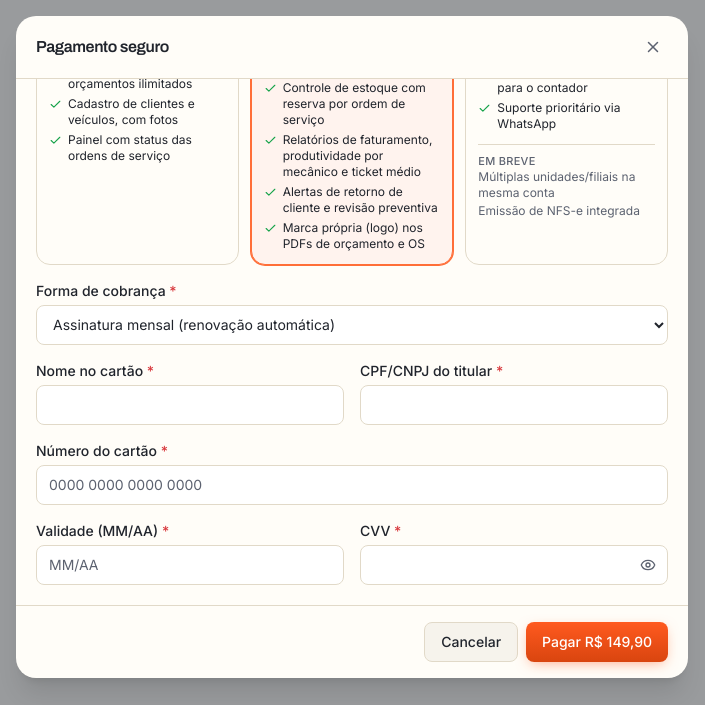
Test: PagamentoCartaoModal › shows the recusado reason and offers "Tentar novamente" instead of a false success — even on HTTP 200
The width and height of the screenshot is (705, 705).
(page scrolled)
Step 1. Type "Ana Souza" into the field labelled "Nome no cartão *" → (190, 405), box [36,385,344,425]
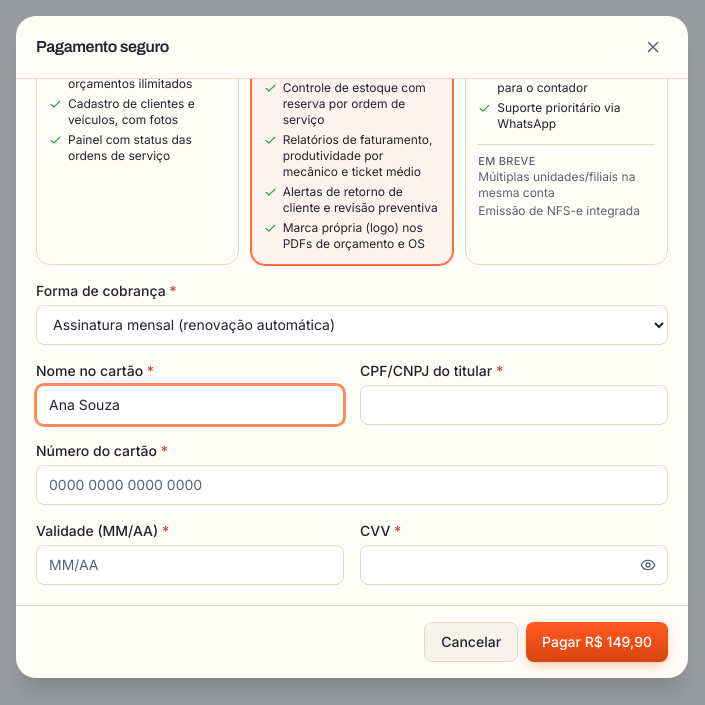
Step 2. Type "12345678900" into the field labelled "CPF/CNPJ do titular *" → (514, 405), box [360,385,668,425]
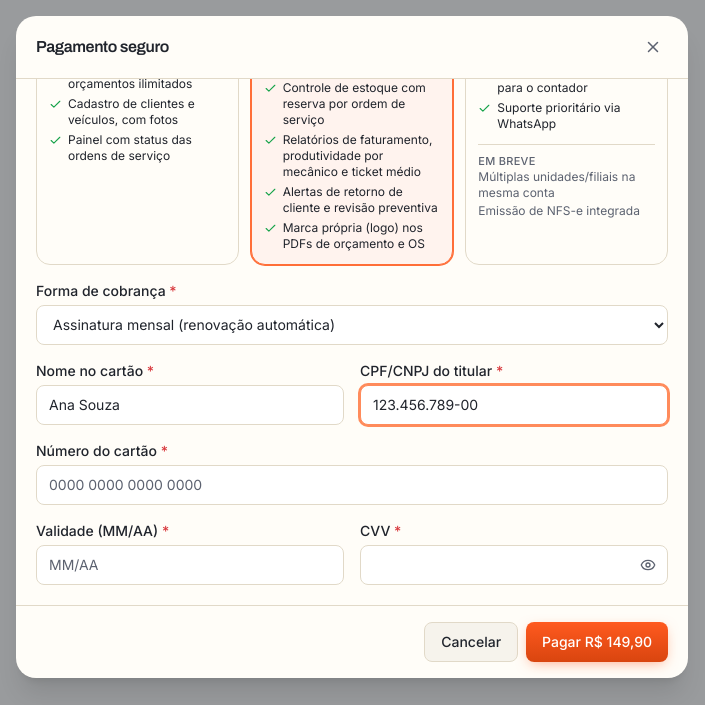
Step 3. Type "4111111111111111" into the field labelled "Número do cartão *" → (352, 485), box [36,465,668,505]
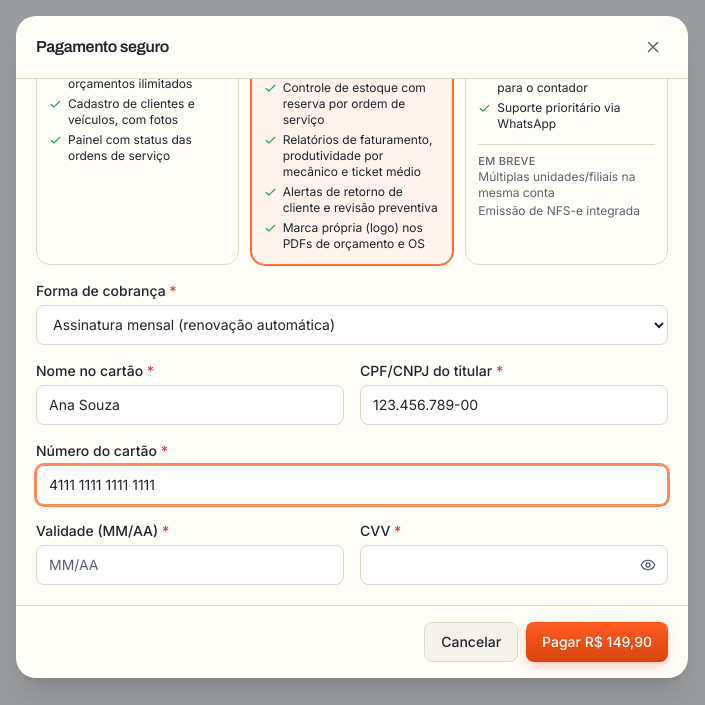
Step 4. Type "1228" into the field labelled "Validade (MM/AA) *" → (190, 565), box [36,545,344,585]
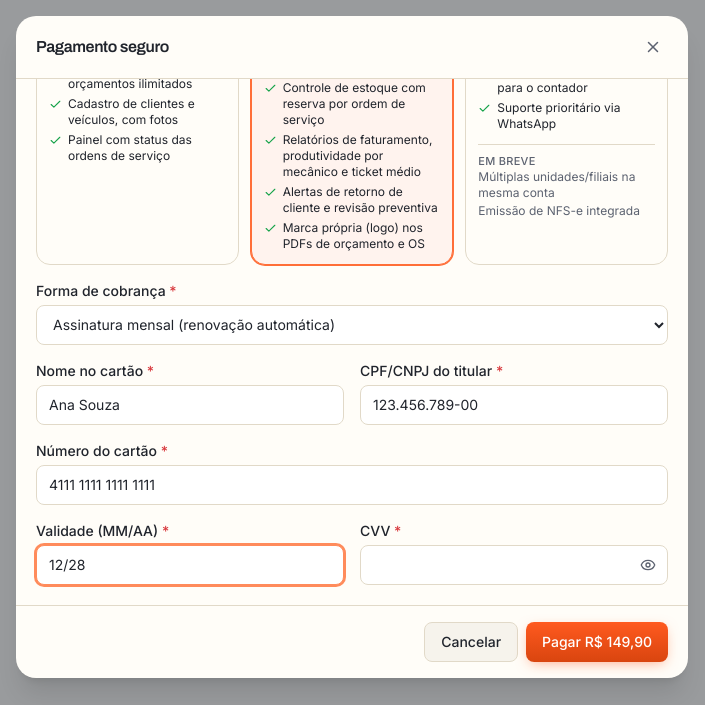
Step 5. Type "123" into the password field labelled "CVV *" → (514, 565), box [360,545,668,585]
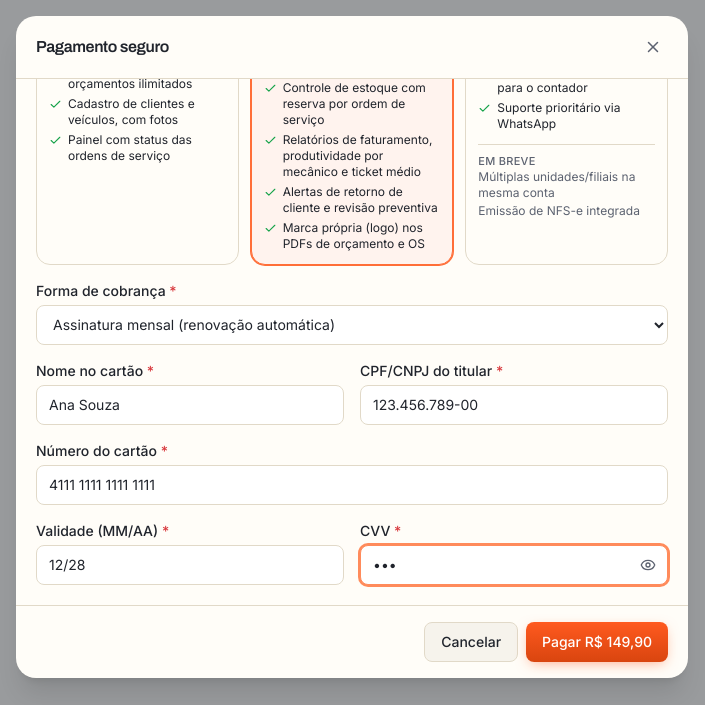
Step 6. Click the button "Pagar R$ 149,90" → (597, 642), box [526,622,668,662]
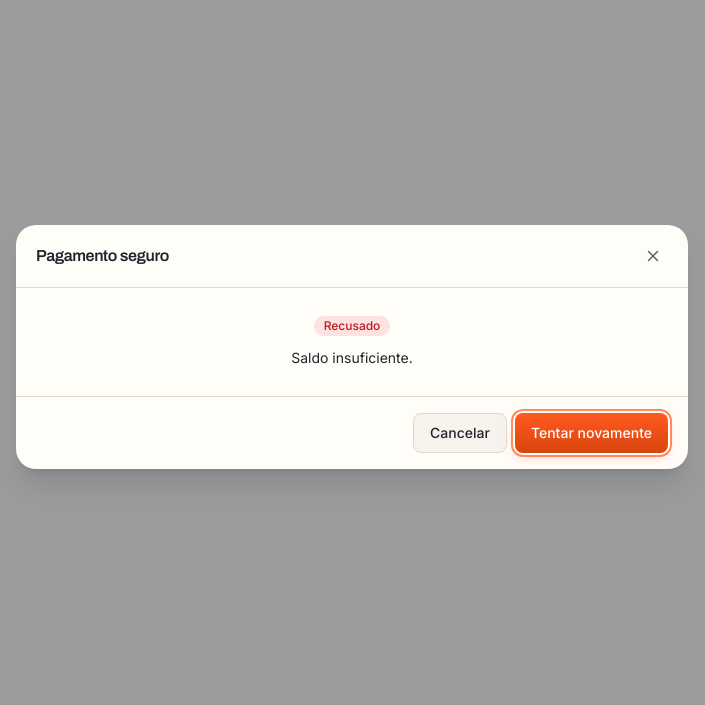
Expected: the text "Saldo insuficiente." is shown, [291,348,413,368]
Expected: the button "Tentar novamente" is shown, [515,413,668,453]
